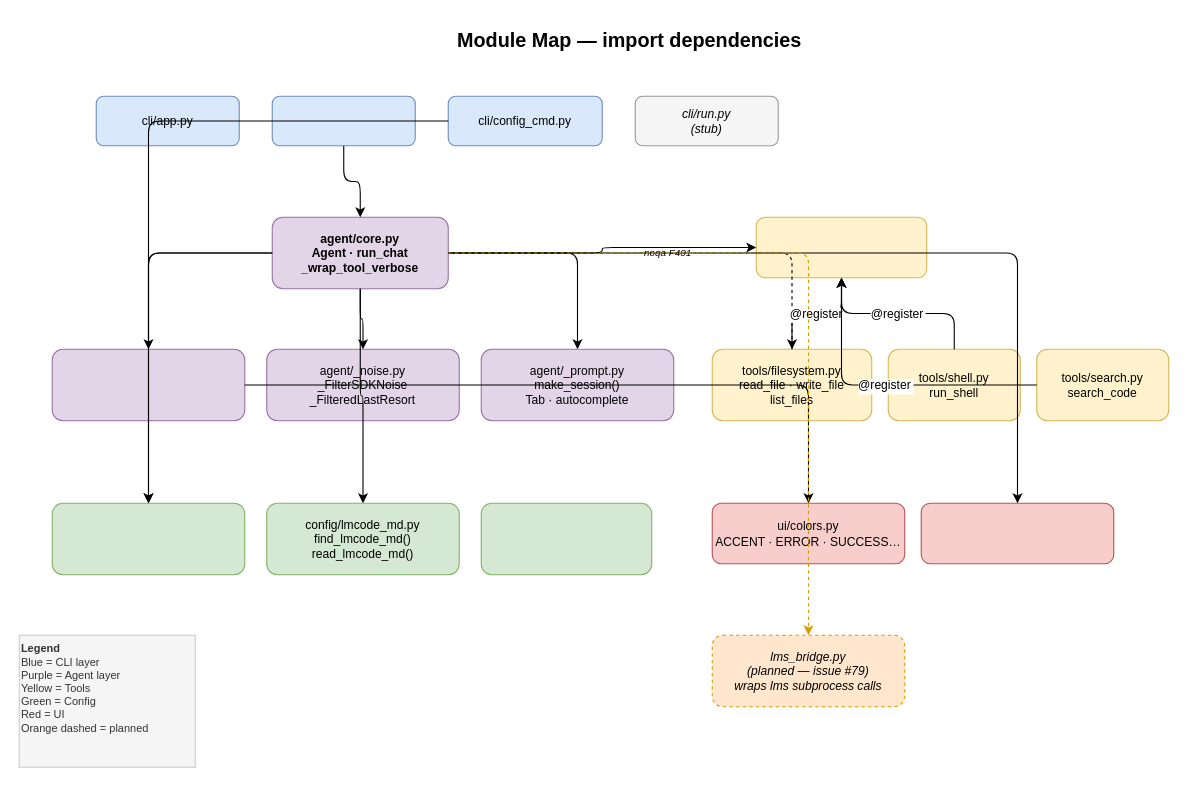
The diagram is 1188 pixels wide and 787 high, and some of its shapes have lost their labels. The shapes that lost their labels are listed below. From the top down, each one's box as (x1, y1, x2, y2) in pixels, then its label:
(271, 95, 415, 146): cli/chat.py
(755, 216, 927, 278): tools/registry.py @register · get_all()
(51, 348, 245, 421): agent/_display.py console · SLASH_COMMANDS all _print_* / _render_*
(51, 502, 245, 575): config/settings.py get_settings() singleton TOML + env vars
(480, 502, 652, 575): config/paths.py config_dir() sessions_dir()
(920, 502, 1114, 564): ui/status.py build_prompt() · next_mode()
